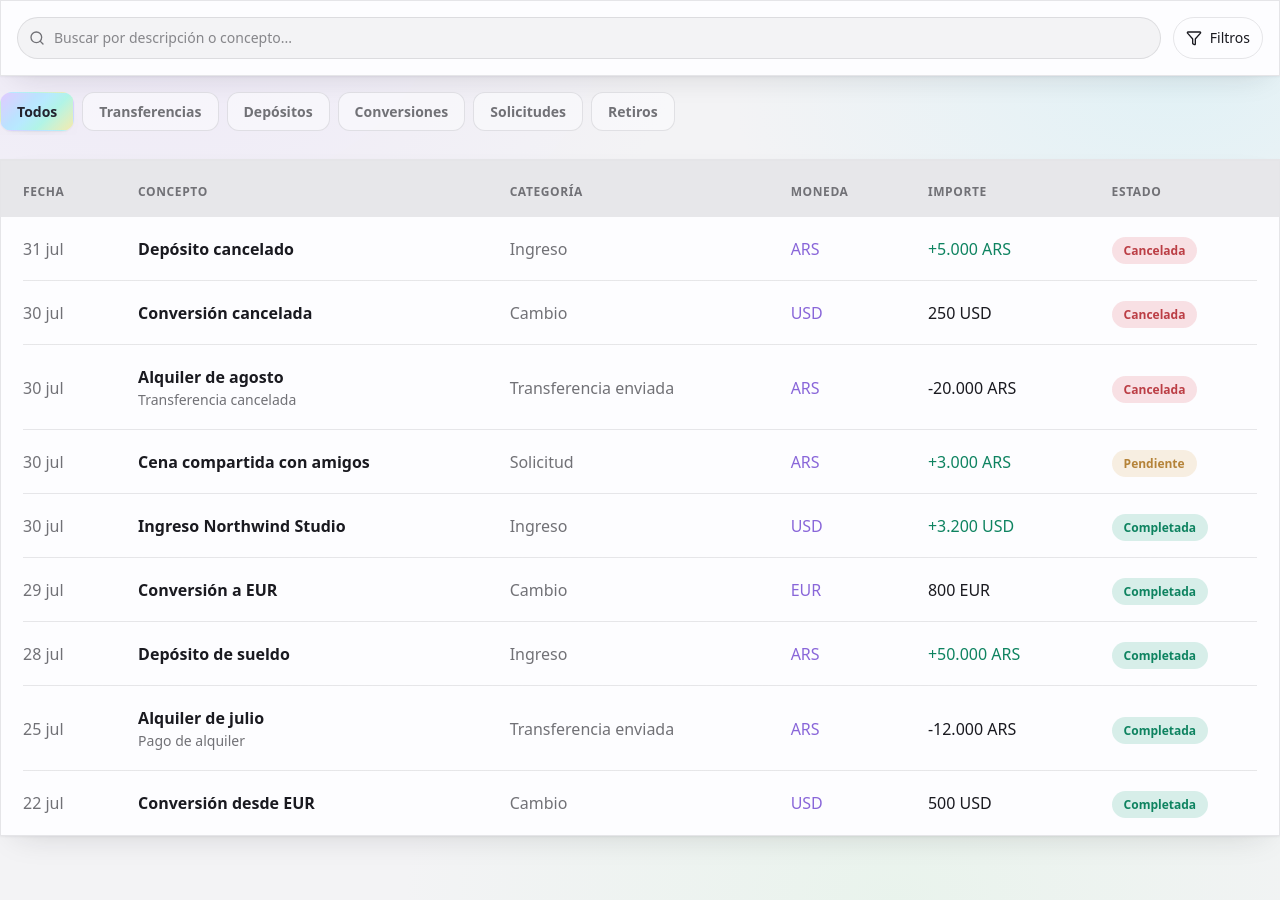
Transactions › muestra mensaje Próximamente al hacer clic en Pagar
Expected: the text "Depósito de sueldo" is shown, [138,643,290,665]
Click the button "Solicitudes". click: (528, 112)
box: [473,92,583,131]
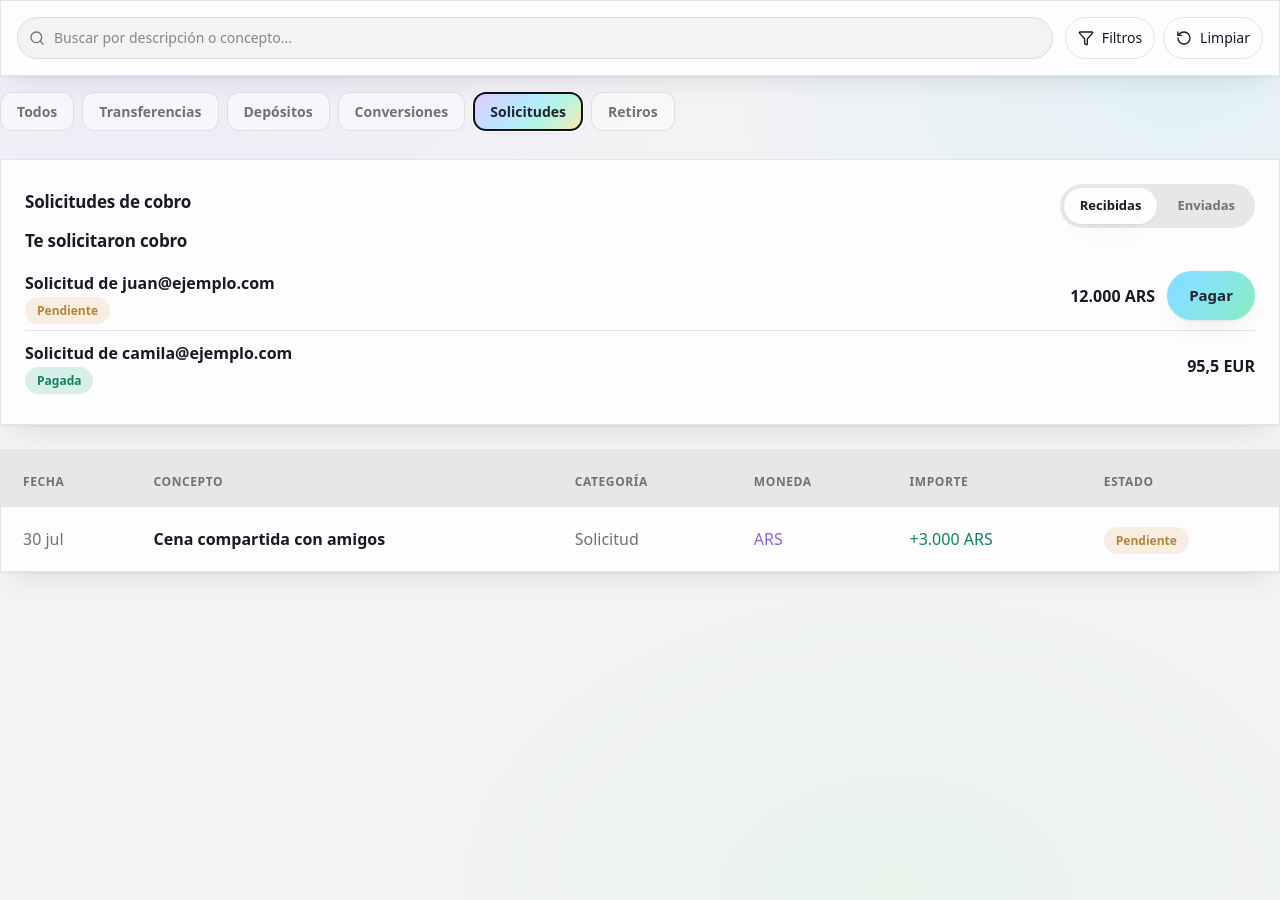
Click the button "Pagar". click: (1211, 296)
box: [1167,271,1255,320]
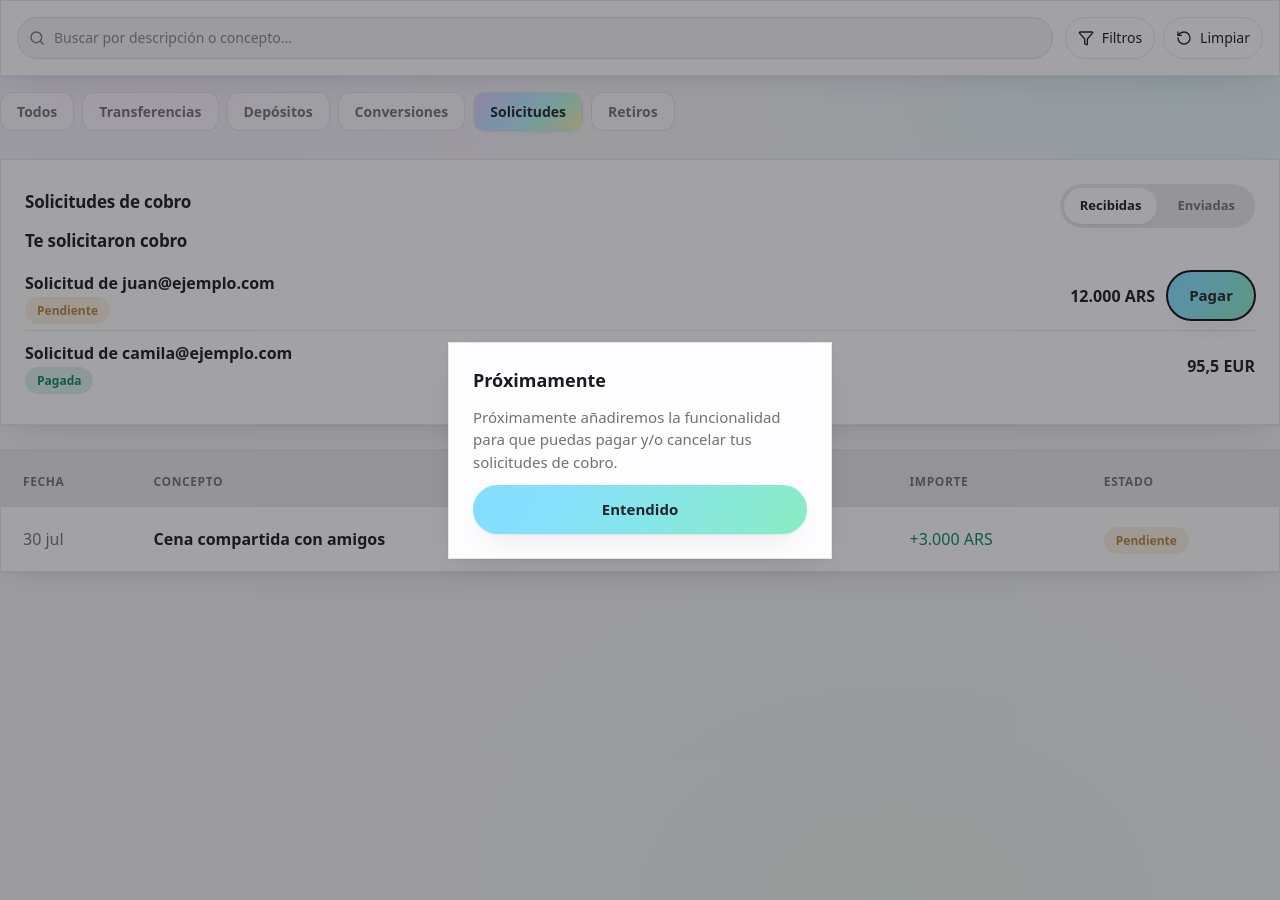
Result: the text "Próximamente añadiremos la funcionalidad para que puedas pagar y/o cancelar tus solicitudes de cobro." is shown at [473,406,781,472]
Click the button "Entendido". click: (640, 509)
box: [473,485,807,534]
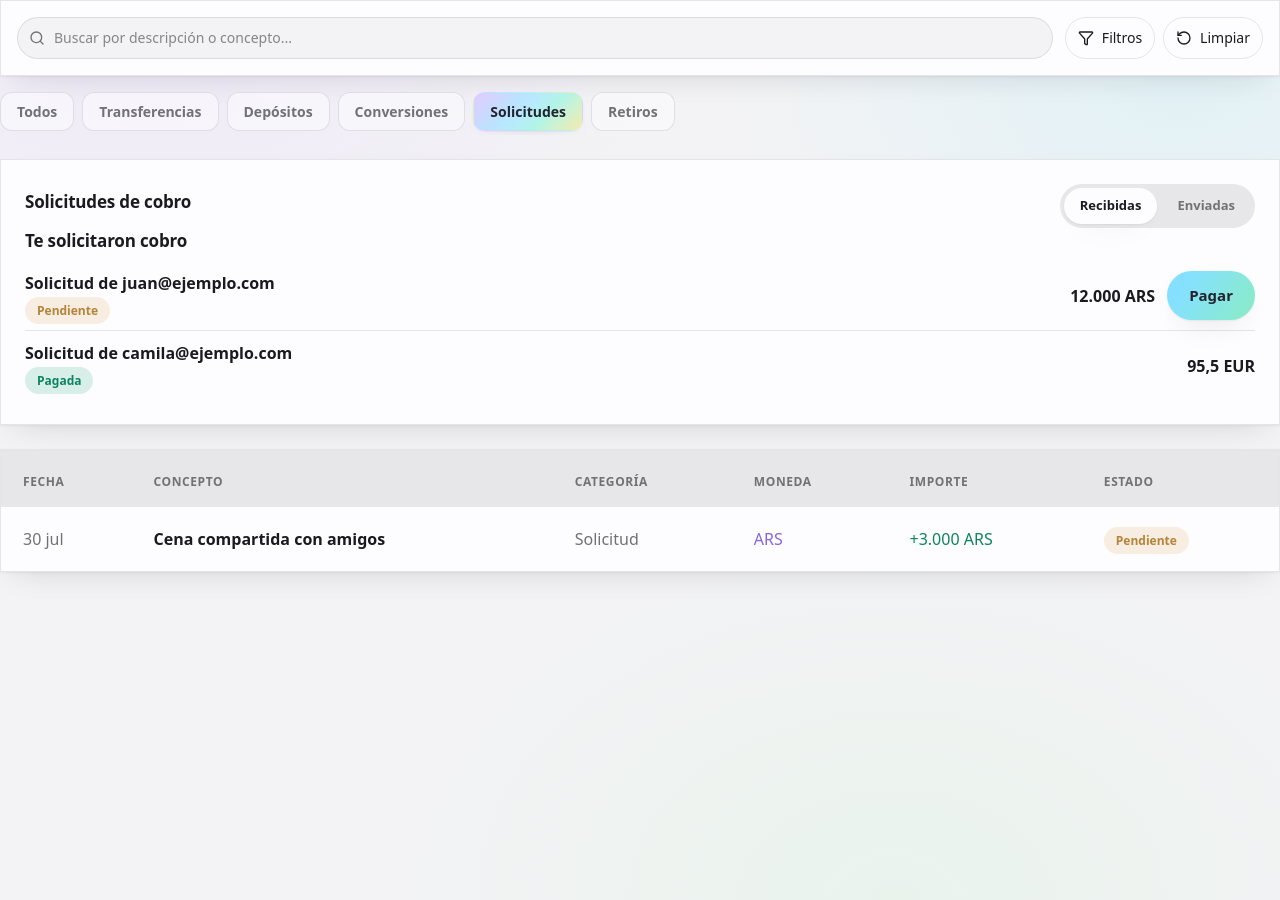
Result: the text "Próximamente añadiremos la funcionalidad para que puedas pagar y/o cancelar tus solicitudes de cobro." is gone
